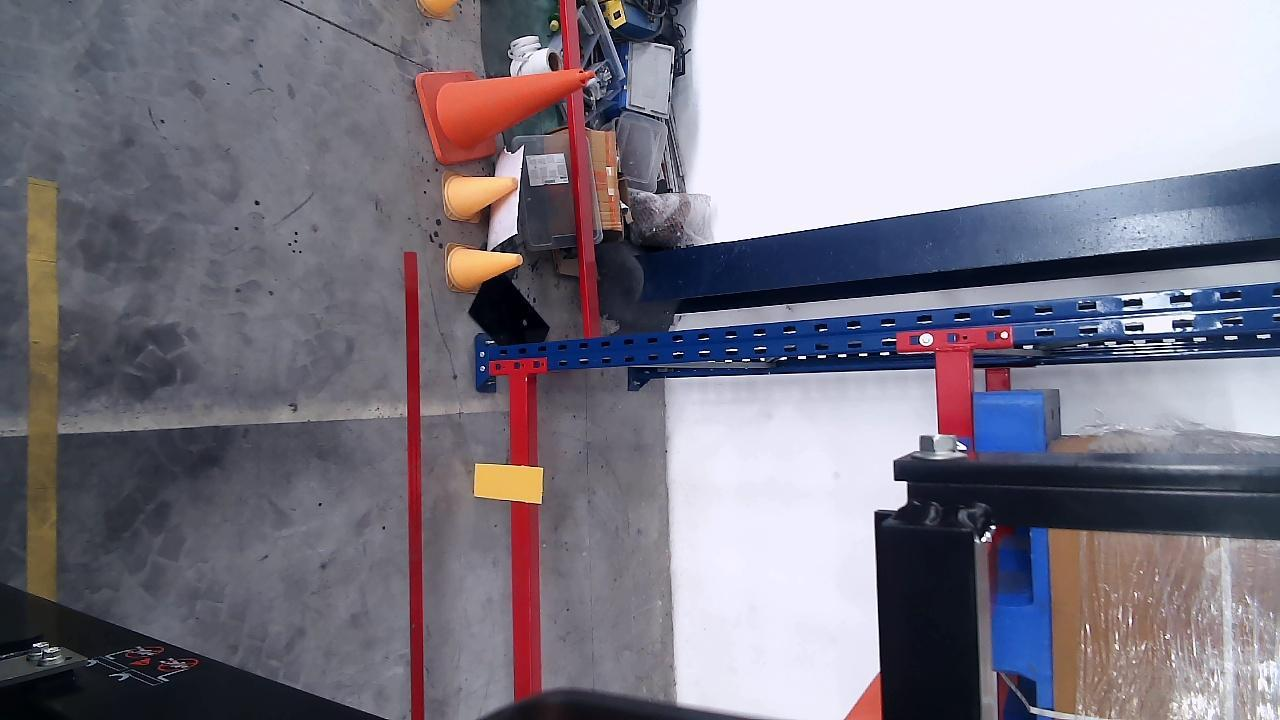h_rack: (509, 377, 536, 704)
orange_strip: (470, 466, 543, 504)
red_line: (401, 252, 425, 720)
small_pallet: (975, 400, 1053, 712)
yellow_line: (24, 177, 61, 599)
